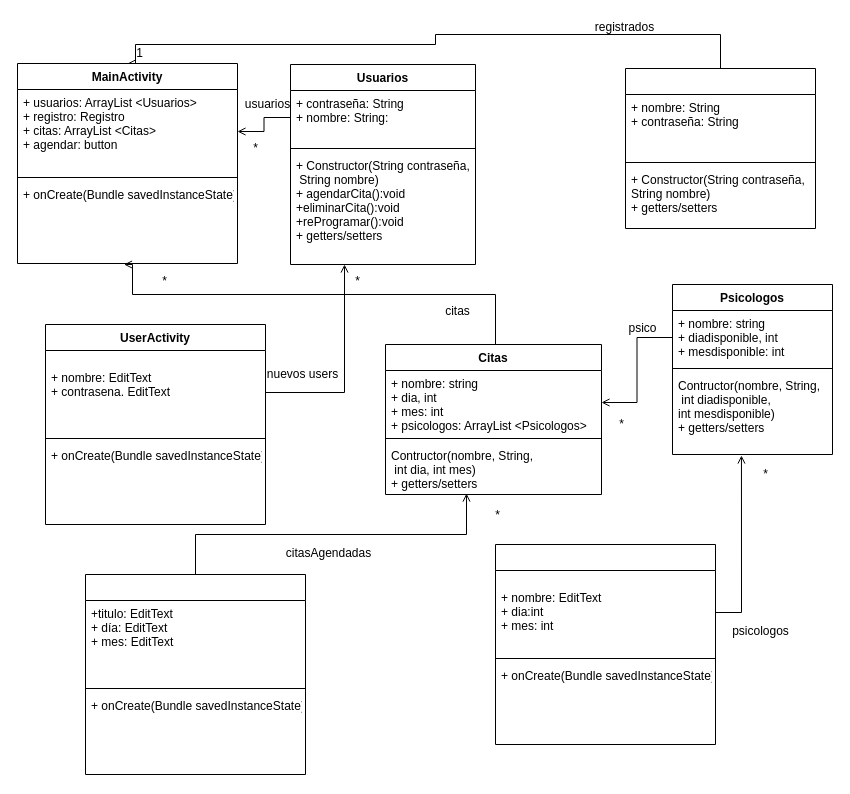
This 850x794 diagram has some shape labels left out. The box of each missing label's shape, as (x1, y1, x2, y2) in pixels:
AgendarActivity: (84, 574, 306, 774)
PsicoActivity: (494, 544, 716, 744)
Registro: (624, 68, 816, 228)
